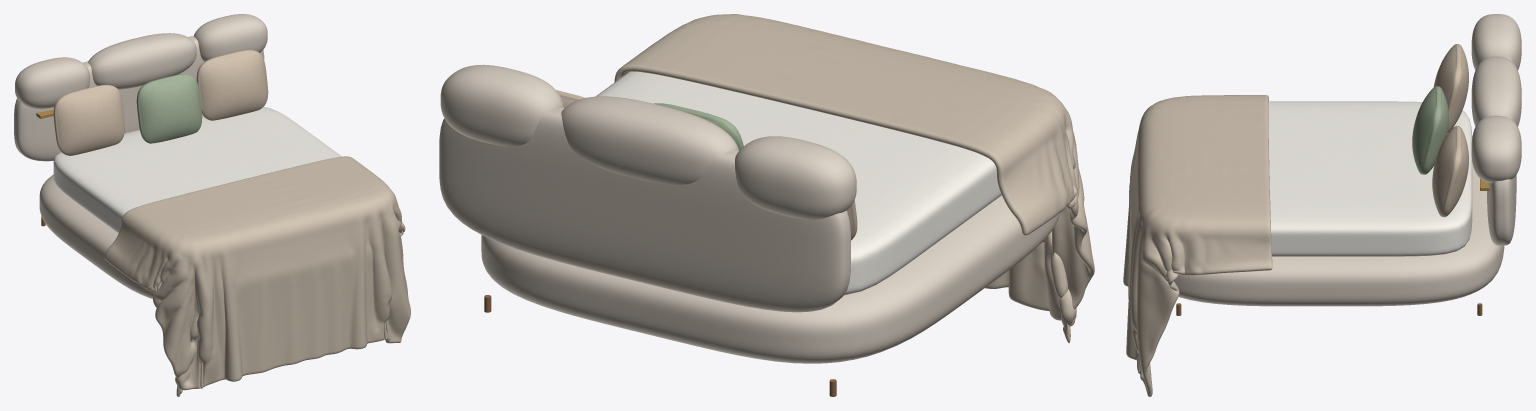
File: nota-bed-set--bed.glb
The picture shows the model from 3 angles, left to right: view 1: azimuth 30°, elevation 25°; view 2: azimuth 150°, elevation 25°; view 3: azimuth 270°, elevation 25°; orthographic projection. The views are drawn at different scales.
Visible parts, largest first — view 1: duvet, mattress, roll1, pillow0, pillow2, base, pillow1, headpanel, roll0, roll2; view 2: headpanel, duvet, base, mattress, roll1, roll0, roll2, pillow1; view 3: duvet, mattress, base, roll2, roll1, pillow2, pillow1, roll0, headpanel, pillow0.
Part boxes in pixels (box(x1,y1,x2,y2)): duvet: box(104, 156, 410, 396); mattress: box(53, 106, 341, 233); roll1: box(88, 33, 196, 89); pillow0: box(53, 85, 124, 155); pillow2: box(196, 50, 268, 120); base: box(39, 174, 154, 298); pillow1: box(136, 74, 202, 143); headpanel: box(14, 36, 264, 161); roll0: box(15, 57, 89, 108); roll2: box(194, 14, 267, 61); headpanel: box(439, 106, 850, 312); duvet: box(614, 14, 1094, 342); base: box(481, 195, 1060, 363); mattress: box(595, 71, 1001, 295); roll1: box(561, 96, 738, 184); roll0: box(735, 136, 856, 219); roll2: box(440, 64, 563, 146); pillow1: box(654, 103, 743, 150); duvet: box(1123, 95, 1272, 396); mattress: box(1268, 101, 1472, 256); base: box(1174, 163, 1504, 306); roll2: box(1471, 115, 1521, 183); roll1: box(1471, 56, 1521, 126); pillow2: box(1432, 125, 1468, 217); pillow1: box(1412, 86, 1448, 174); roll0: box(1471, 14, 1521, 70); headpanel: box(1487, 56, 1516, 245); pillow0: box(1433, 44, 1468, 133).
Bounding box in the file's own units: 2.13 × 1.72 × 2.38.
Materials: 7 (5 with a texture image).
